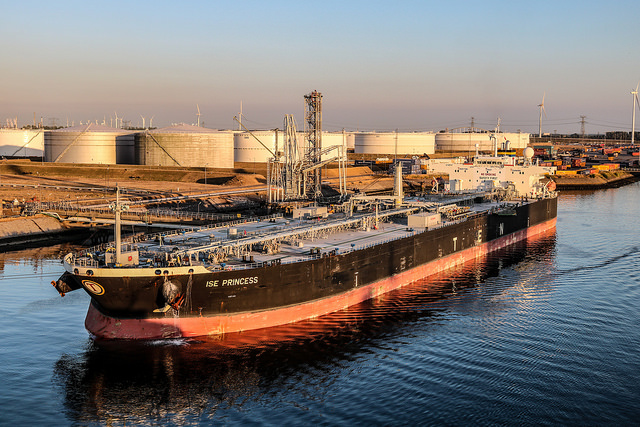tanker: (50, 143, 560, 339)
